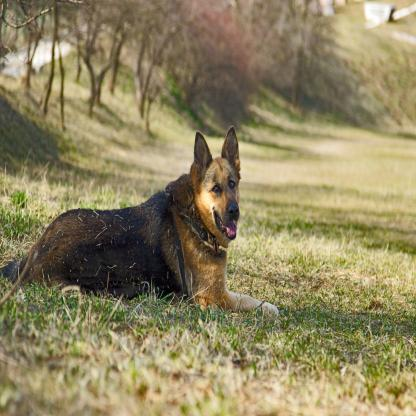dog: (5, 124, 242, 316)
